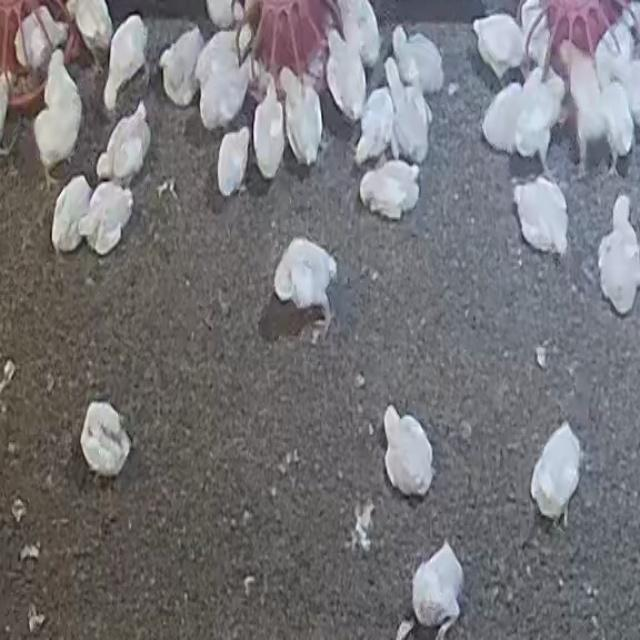chicken: (526, 416, 585, 533), (271, 235, 341, 333), (411, 536, 467, 640), (594, 192, 640, 318), (380, 401, 437, 500), (508, 174, 572, 258), (94, 97, 154, 186), (75, 399, 133, 490), (358, 158, 422, 222), (470, 11, 525, 79), (214, 126, 254, 198)
